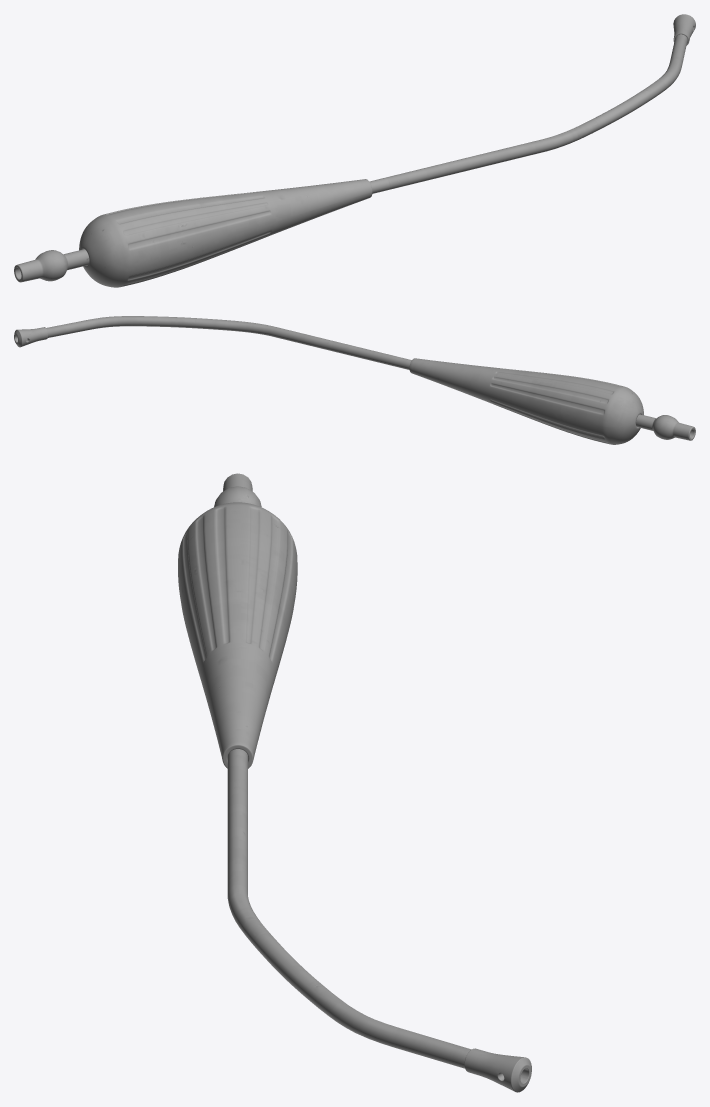
Rendered from instrument_suction_a01.glb.
3 renders of one model, top to bottom at view 1: azimuth 30°, elevation 25°; view 2: azimuth 150°, elevation 25°; view 3: azimuth 270°, elevation 25°, orthographic. The views are drawn at different scales.
Visible parts, largest first — view 1: suction_01_mesh_00; view 2: suction_01_mesh_00; view 3: suction_01_mesh_00.
Boxes of the visible parts, x1,y1,x2,y2 form: suction_01_mesh_00: (14,14,695,287); suction_01_mesh_00: (14,316,695,444); suction_01_mesh_00: (178,473,531,1092).
Bounding box in the file's own units: 0.2872 × 0.0244 × 0.0722.
1 material, 1 textured.
